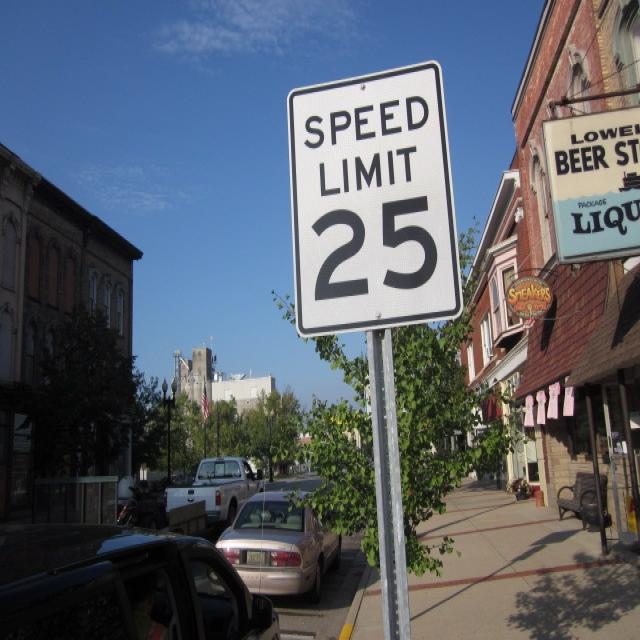regulatory: (265, 61, 469, 332)
